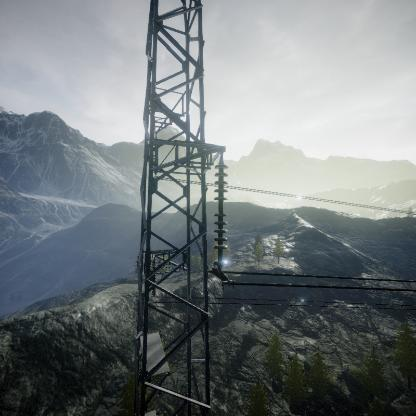insulator: (212, 160, 232, 271)
